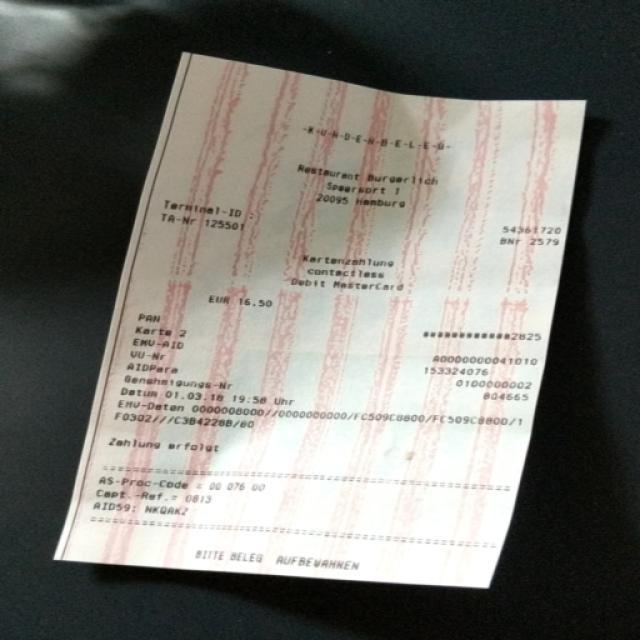document: (57, 54, 583, 586)
